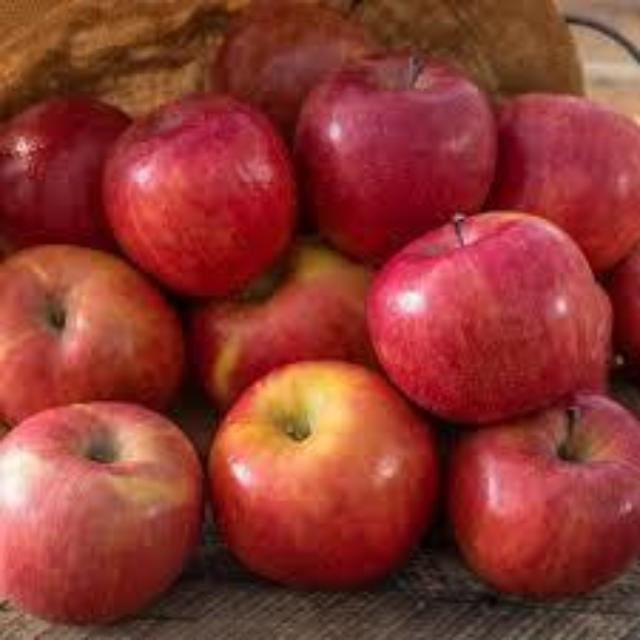apple: (367, 210, 609, 424), (208, 361, 438, 586), (0, 401, 202, 620), (293, 51, 495, 262), (102, 94, 296, 296), (447, 393, 637, 597), (0, 245, 185, 424), (191, 239, 375, 410), (489, 94, 637, 270), (208, 0, 378, 139), (0, 97, 128, 250), (606, 245, 637, 381)
